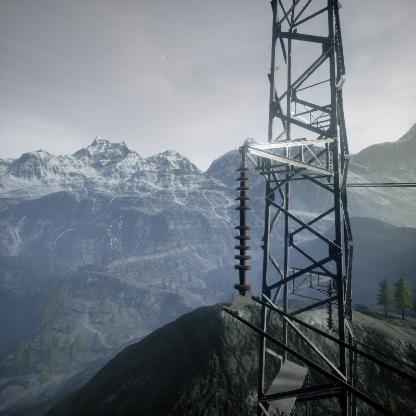insulator: (233, 160, 254, 295)
